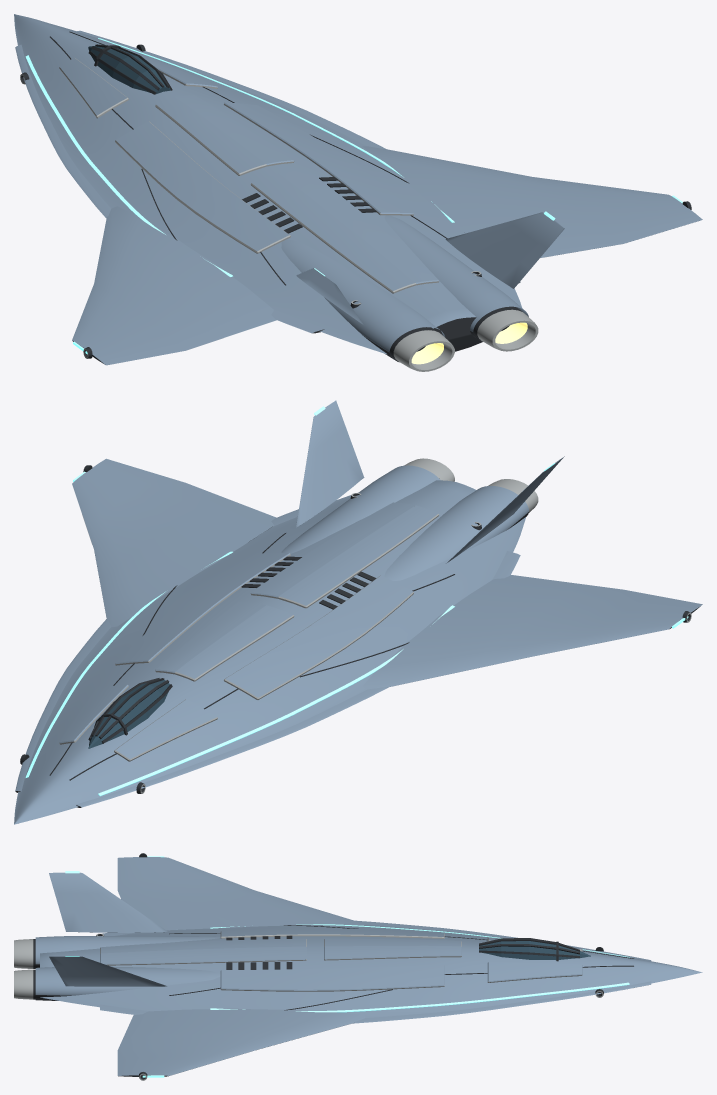
The model's file is swift.glb.
The picture shows the model from 3 angles, top to bottom: view 1: azimuth 30°, elevation 25°; view 2: azimuth 150°, elevation 25°; view 3: azimuth 270°, elevation 25°; orthographic projection. The views are drawn at different scales.
Parts seen in each view (by area): view 1: Hull_Swift; view 2: Hull_Swift; view 3: Hull_Swift.
Boxes of the visible parts, x1,y1,x2,y2 form: Hull_Swift: (14, 14, 702, 371); Hull_Swift: (14, 400, 702, 824); Hull_Swift: (14, 853, 702, 1080).
Size of the model in its own units: 60.59 by 9.66 by 80.
